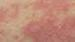plaque psoriasis: (22, 13, 75, 42), (0, 1, 19, 42), (28, 0, 75, 13)
